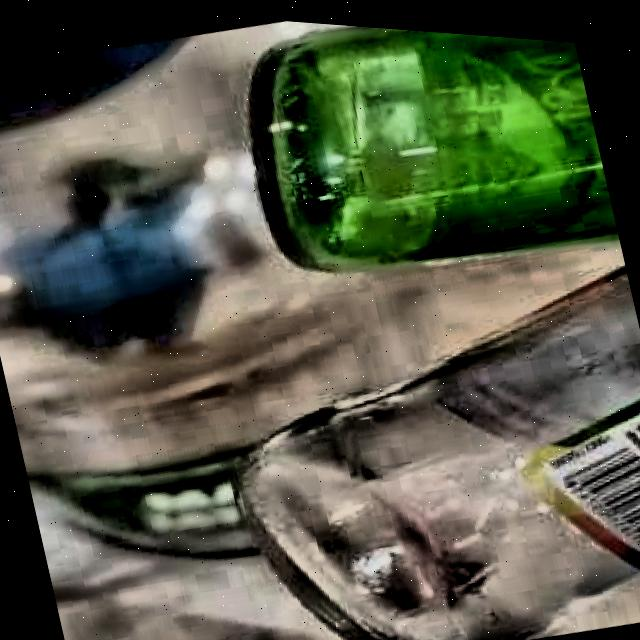glass: (240, 258, 640, 640), (248, 21, 619, 265)
